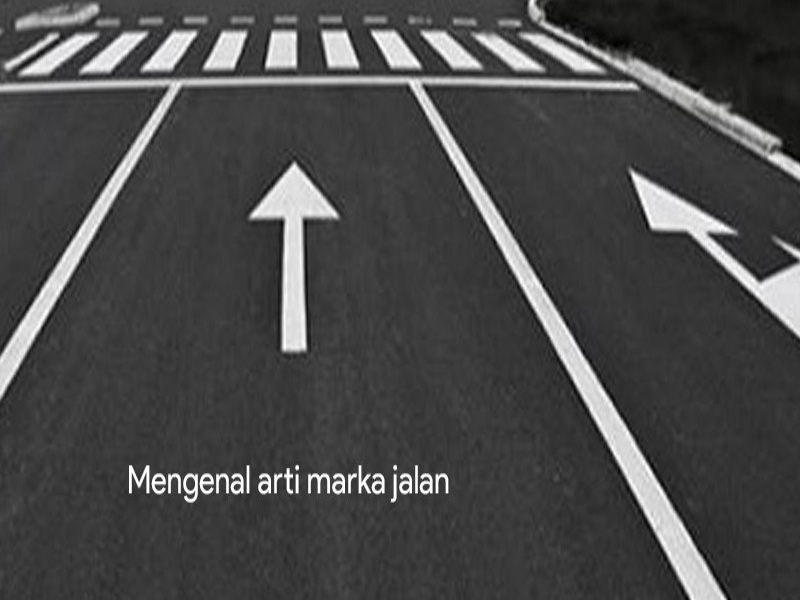zebra cross: (14, 28, 611, 74)
